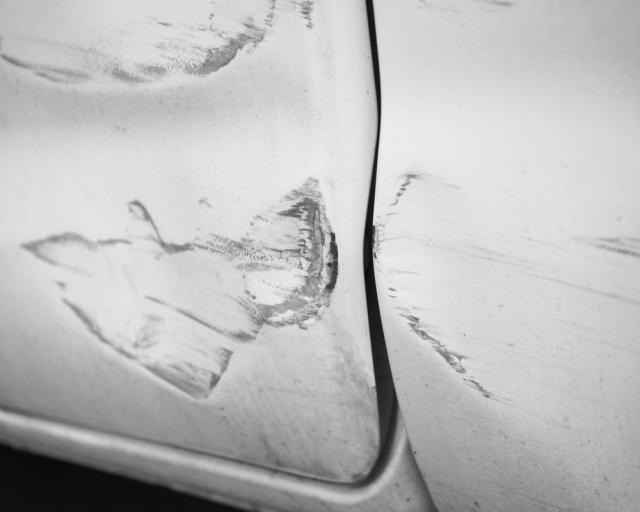scratch: (18, 175, 341, 405), (372, 166, 640, 419), (0, 0, 324, 99)
